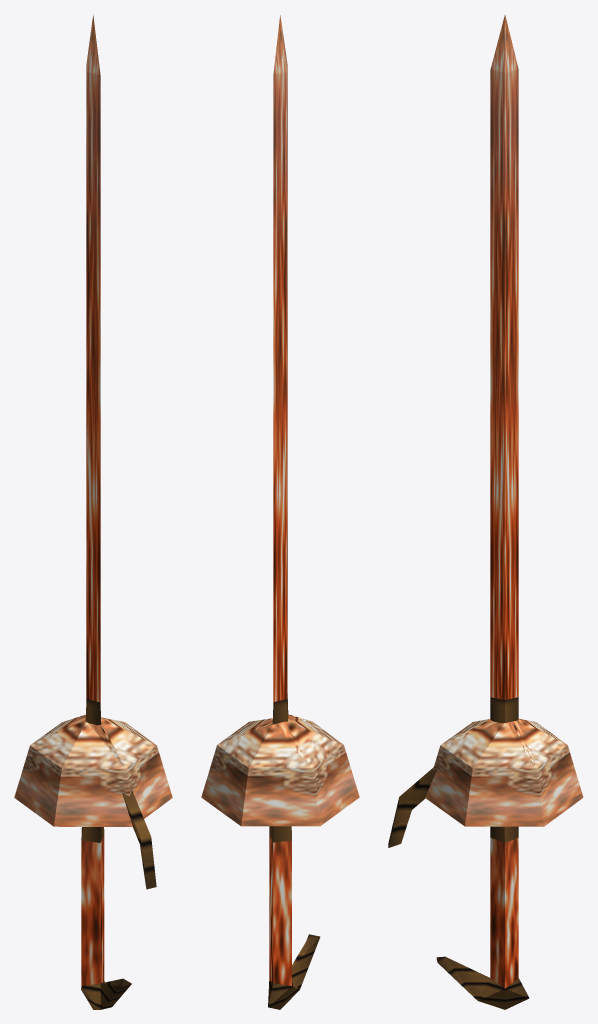
The model's file is blademaster01_3.obj.
The picture shows the model from 3 angles, left to right: view 1: azimuth 30°, elevation 25°; view 2: azimuth 150°, elevation 25°; view 3: azimuth 270°, elevation 25°; orthographic projection.
Visible parts, largest first — view 1: MDL_cw1hsw01_3; view 2: MDL_cw1hsw01_3; view 3: MDL_cw1hsw01_3.
Part boxes in pixels (x1,y1,x2,y2): MDL_cw1hsw01_3: [14, 15, 172, 1009]; MDL_cw1hsw01_3: [201, 15, 359, 1009]; MDL_cw1hsw01_3: [388, 14, 583, 1009].
Bounding box in the file's own units: 0.175 × 1.4 × 0.2487.
